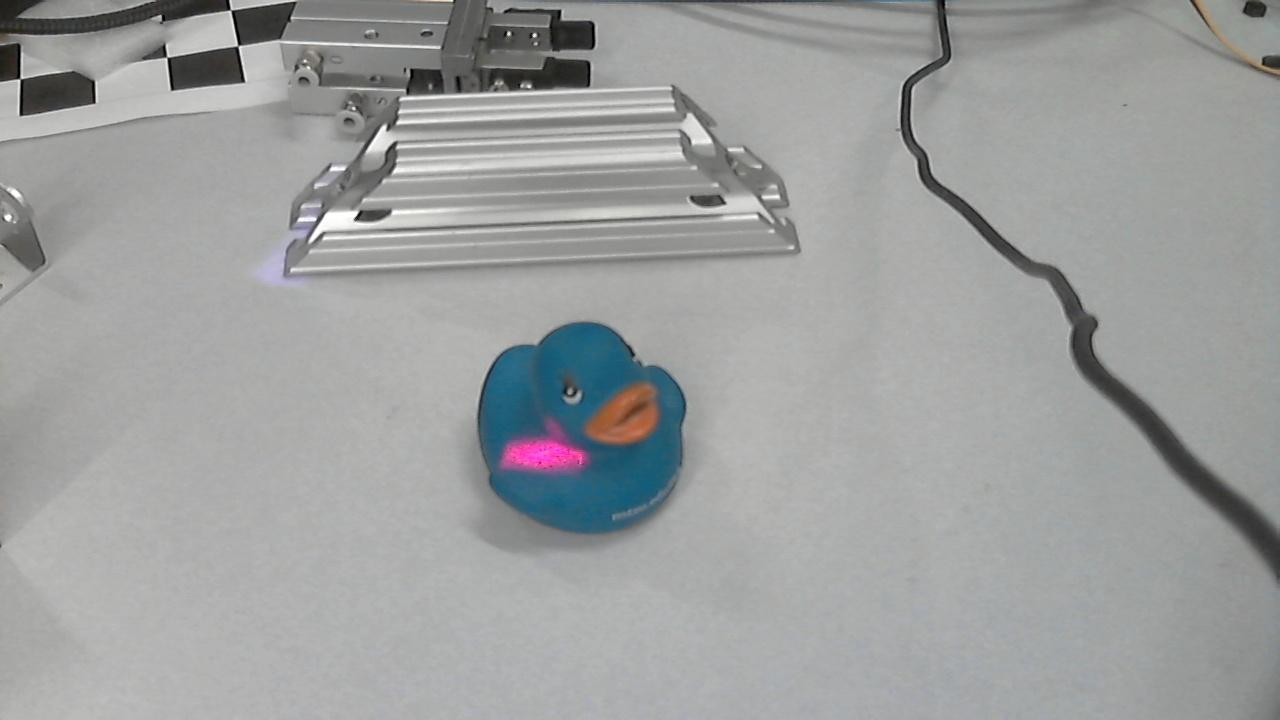Object scissors - Material metal - Pdfname tYexGlkiIXWc: (493, 417, 602, 492)
